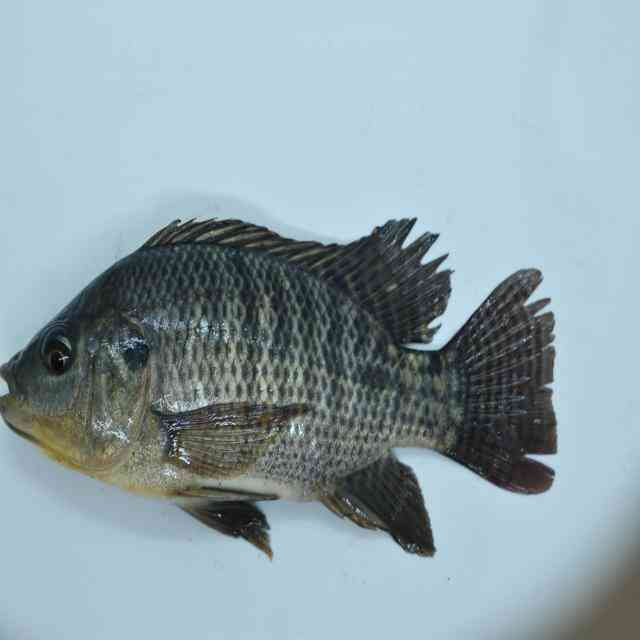Healthy Fish: (0, 205, 561, 559)
